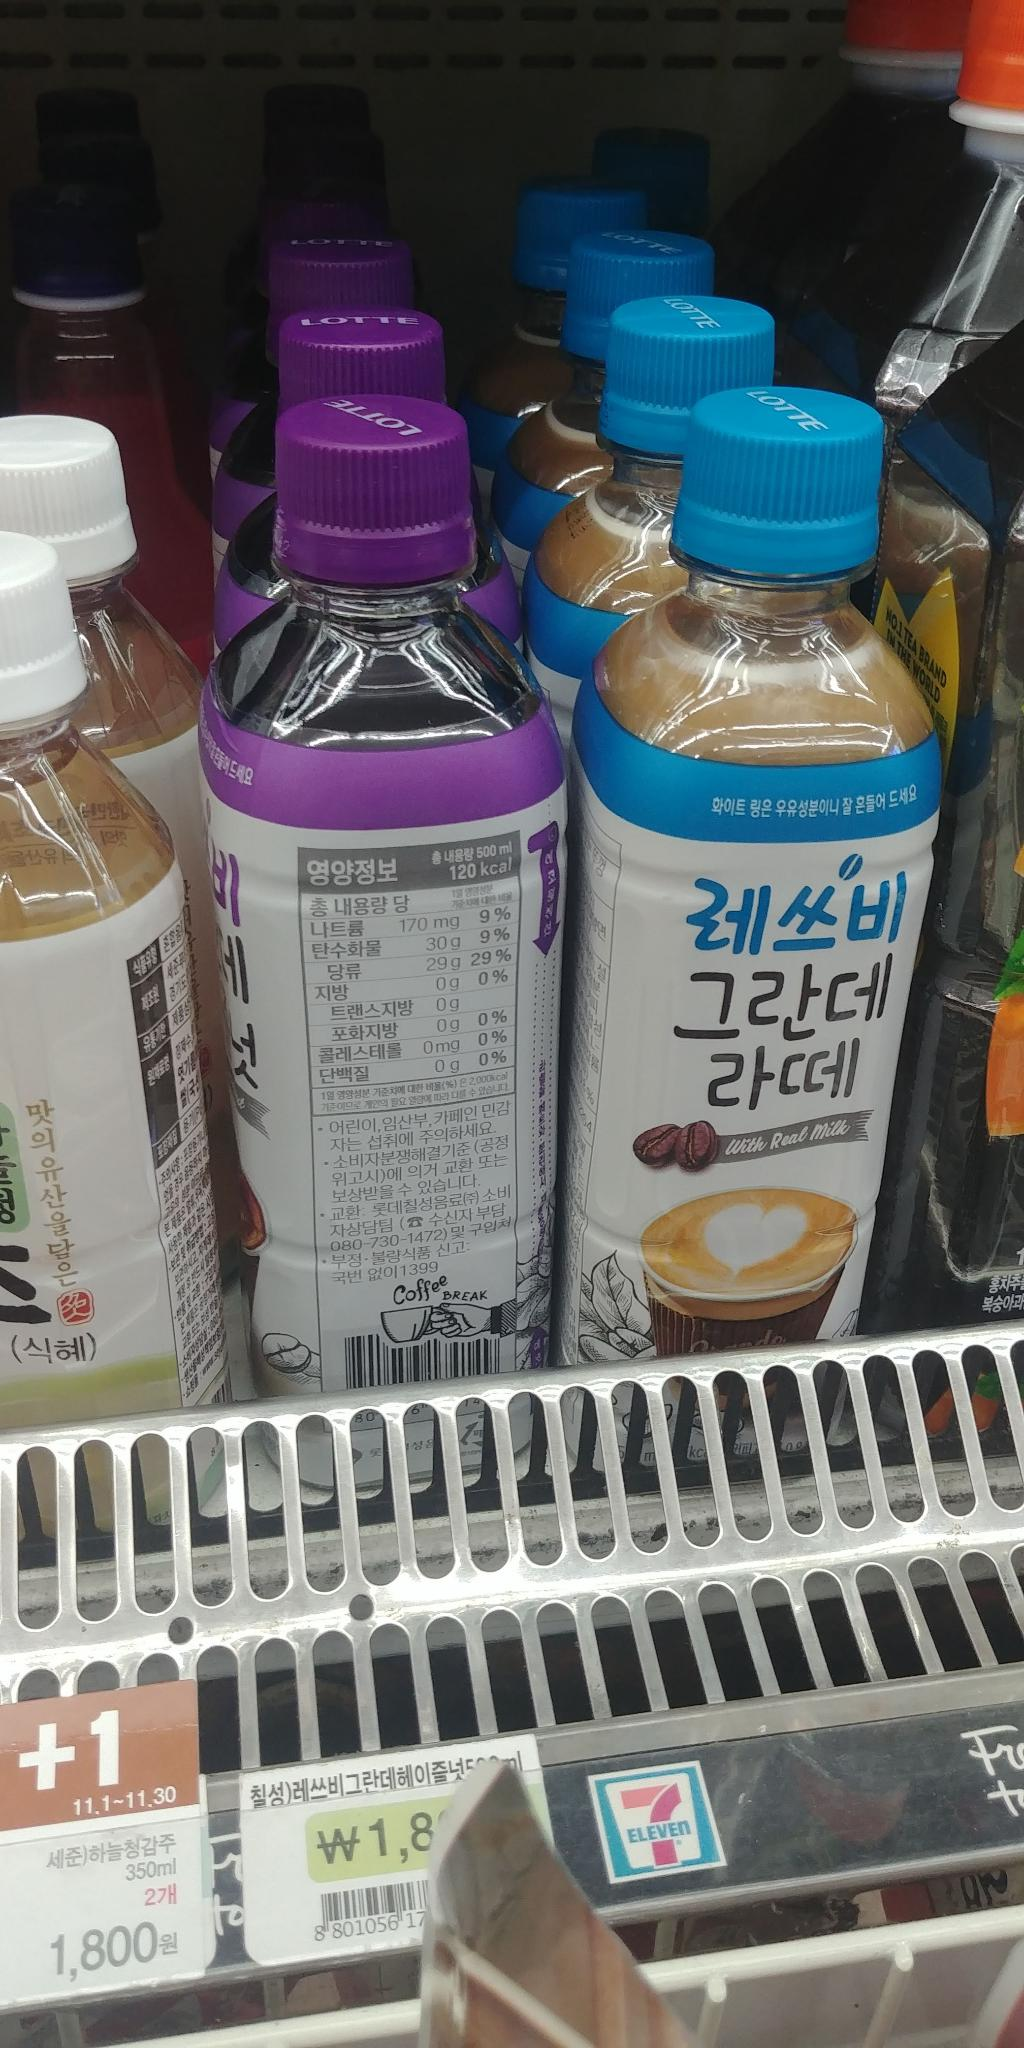letsbe_grande_hazelnut: (197, 387, 573, 1459)
